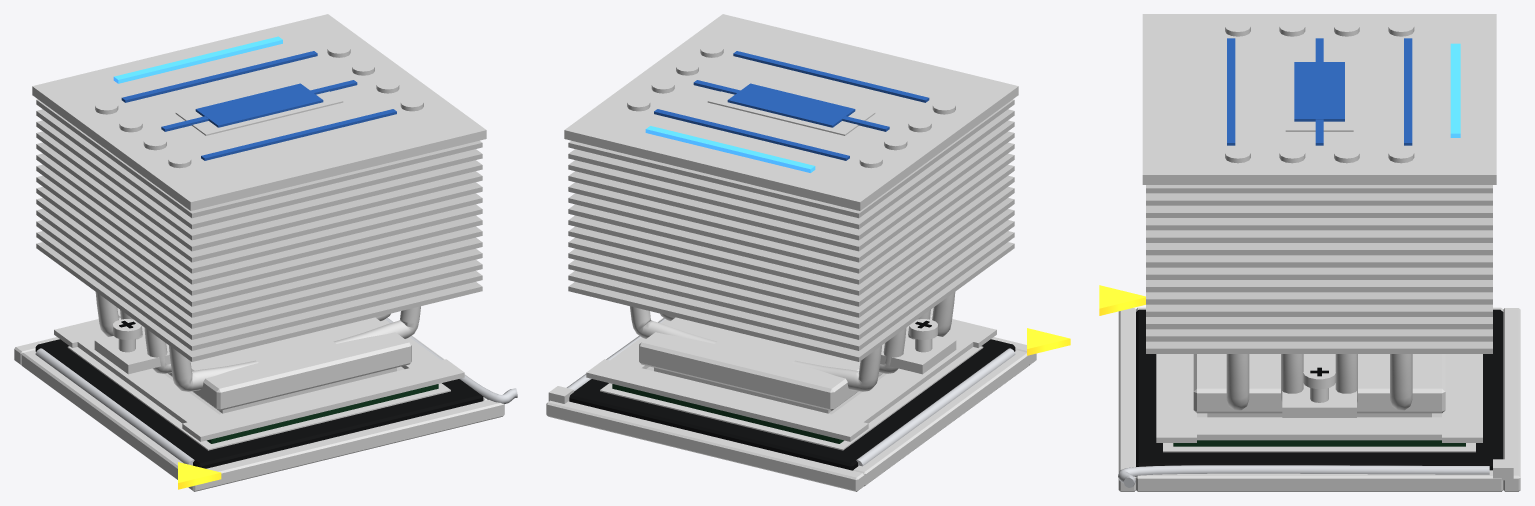
Rendered from hwm_cpu_i9_14900k.glb.
3 renders of one model, left to right at view 1: azimuth 30°, elevation 25°; view 2: azimuth 150°, elevation 25°; view 3: azimuth 270°, elevation 25°, orthographic. The views are drawn at different scales.
Parts seen in each view (by area): view 1: Cooler, Socket, Frame, CPU, Screw_0, Lever; view 2: Cooler, Socket, Frame, CPU, Screw_0; view 3: Cooler, Socket, Frame, Lever, CPU, Screw_1.
Boxes of the visible parts, <box> form: Cooler: <box>32,14,486,410</box>; Socket: <box>14,320,504,491</box>; Frame: <box>54,319,464,441</box>; CPU: <box>164,366,438,443</box>; Screw_0: <box>113,319,141,352</box>; Lever: <box>385,317,517,403</box>; Cooler: <box>564,14,1018,410</box>; Socket: <box>546,317,1070,491</box>; Frame: <box>586,319,996,441</box>; CPU: <box>612,366,886,443</box>; Screw_0: <box>909,319,937,352</box>; Cooler: <box>1142,14,1496,417</box>; Socket: <box>1099,285,1520,491</box>; Frame: <box>1156,354,1482,442</box>; Lever: <box>1118,465,1489,487</box>; CPU: <box>1173,413,1465,446</box>; Screw_1: <box>1303,365,1335,402</box>.
Bounding box in the file's own units: 0.1338 × 0.1035 × 0.1239.
